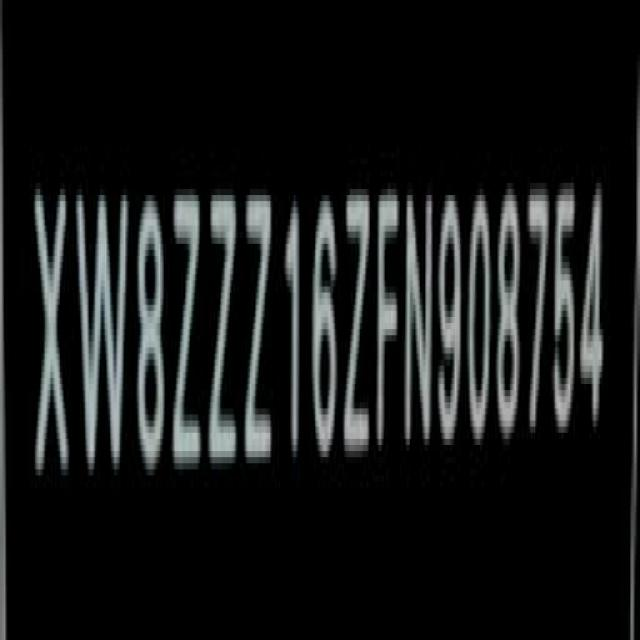0: (467, 186, 494, 449)
1: (284, 186, 306, 471)
4: (579, 184, 605, 440)
5: (554, 183, 579, 443)
6: (312, 188, 339, 470)
7: (526, 182, 550, 448)
8: (137, 193, 165, 486), (498, 184, 524, 448)
9: (437, 188, 462, 452)
F: (375, 190, 401, 460)
N: (405, 186, 434, 456)
W: (76, 182, 132, 492)
X: (35, 180, 71, 498)
Z: (208, 182, 240, 482), (174, 184, 205, 483), (344, 184, 374, 468), (246, 186, 275, 473)
